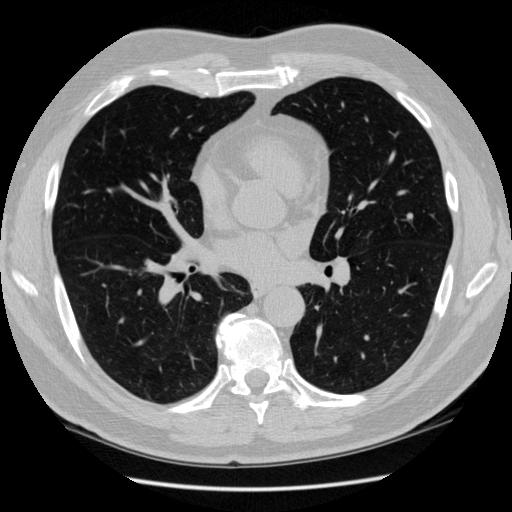nodule: (404, 210, 416, 222)
